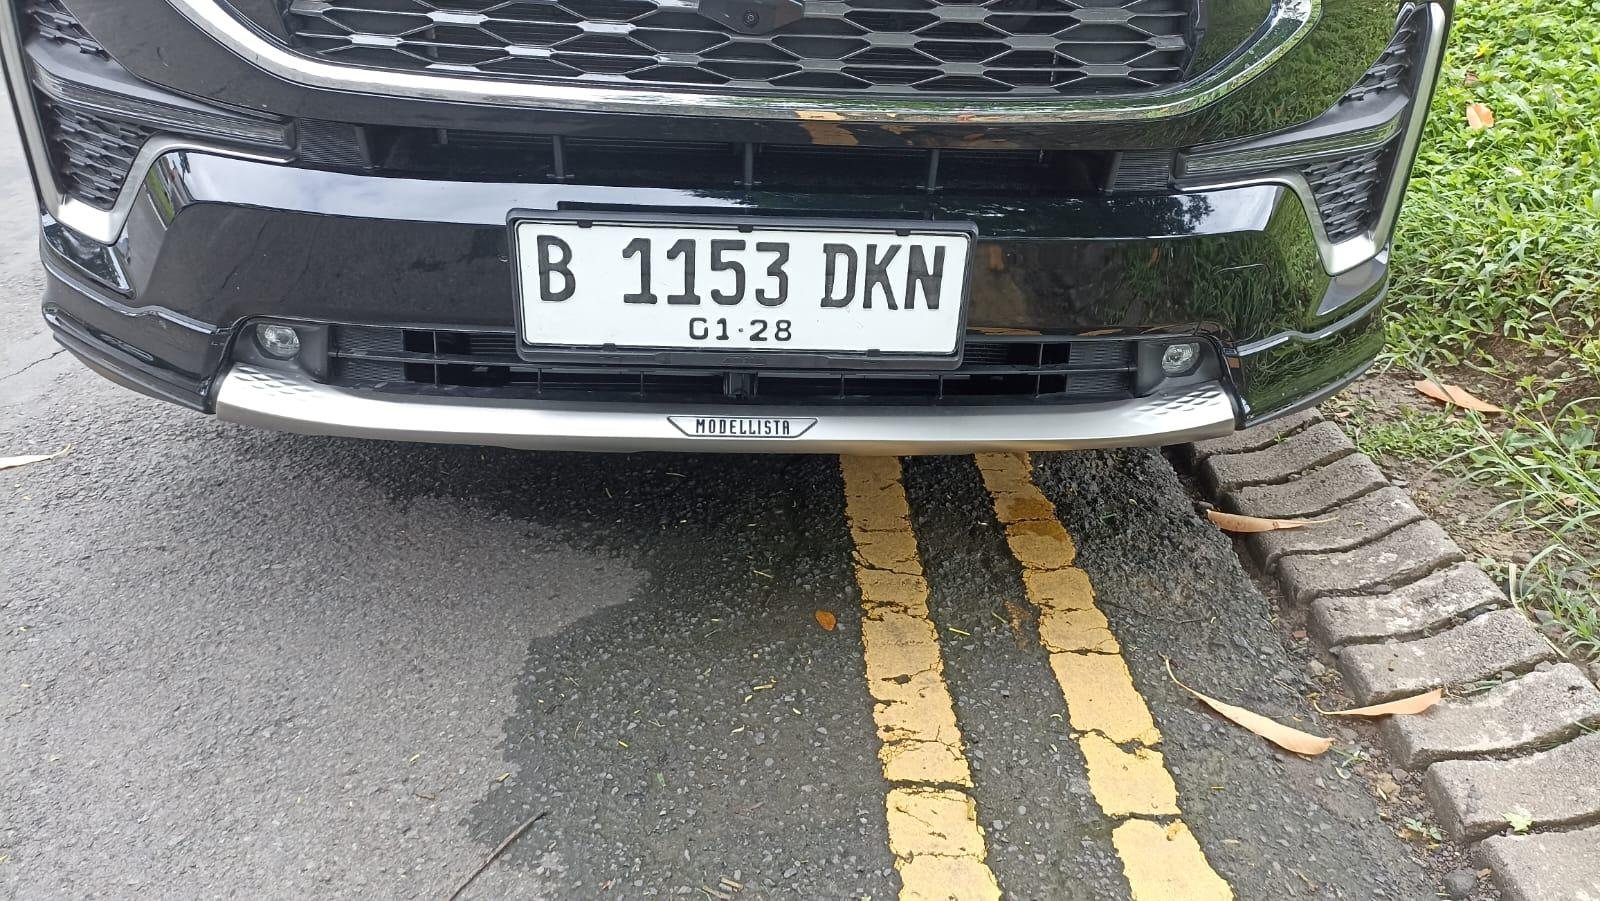plat: (512, 219, 975, 359)
